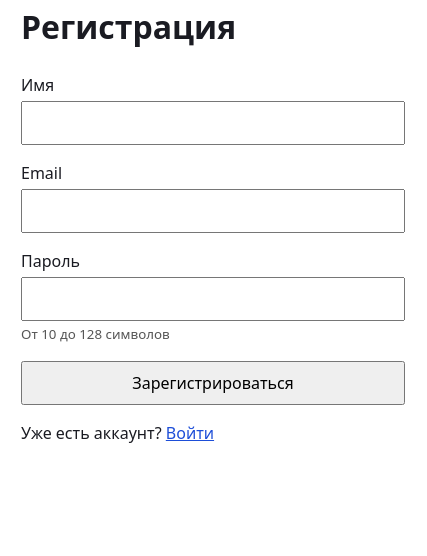
Scenario: register › reports a network failure
The image size is (427, 556).
Step 1. Type "Bob" into the field labelled "Имя" → (213, 123), box [21,101,405,145]
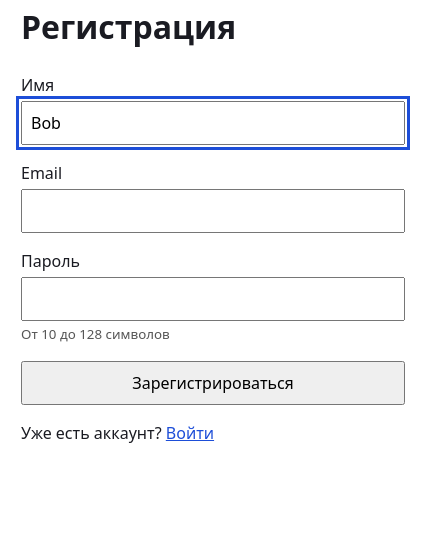
Step 2. Type "bob@example.com" into the field labelled "Email" → (213, 211), box [21,189,405,233]
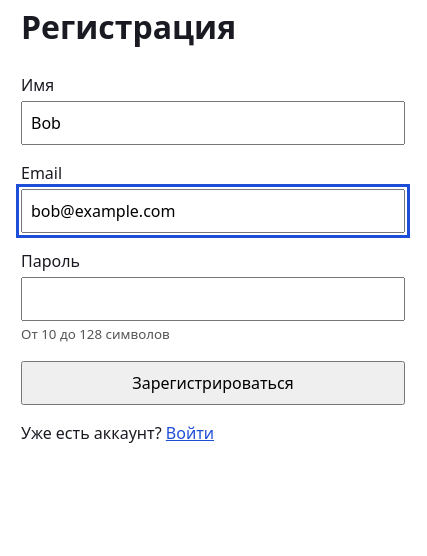
Step 3. Type "a-long-enough-password" into the password field labelled "Пароль" → (213, 299), box [21,277,405,321]
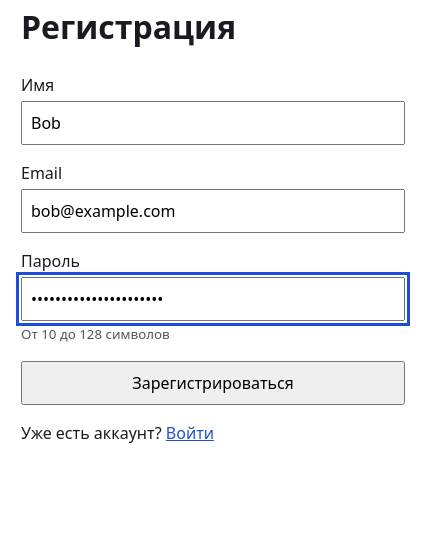
Step 4. Click the button "Зарегистрироваться" → (213, 383), box [21,361,405,405]
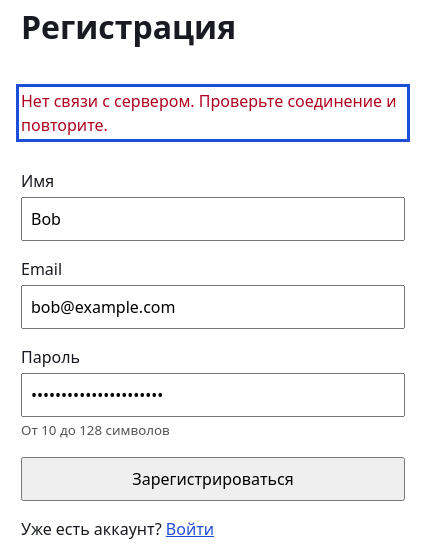
Expected: the message shows "Нет связи с сервером", [21,90,397,136]
